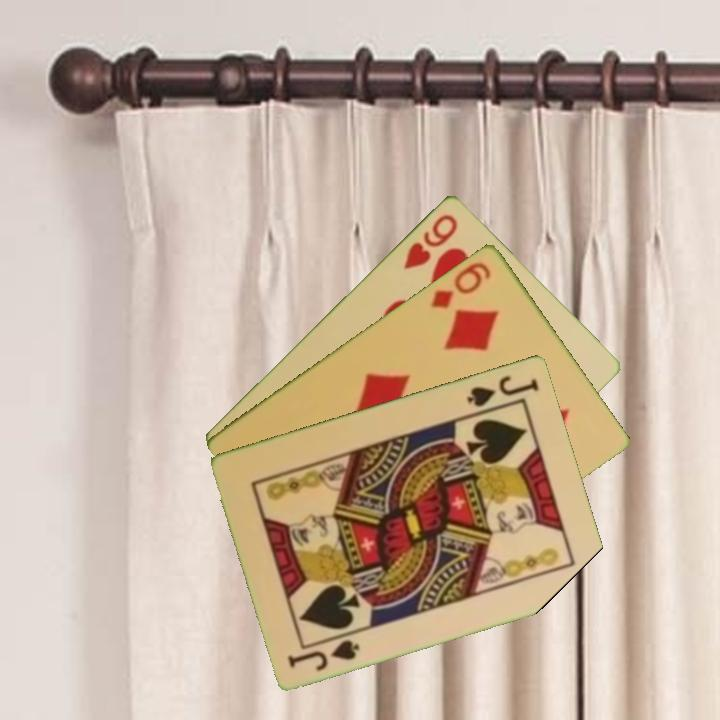6d: (427, 257, 494, 311)
9h: (399, 210, 461, 272)
Js: (463, 371, 542, 410), (284, 635, 363, 674)
